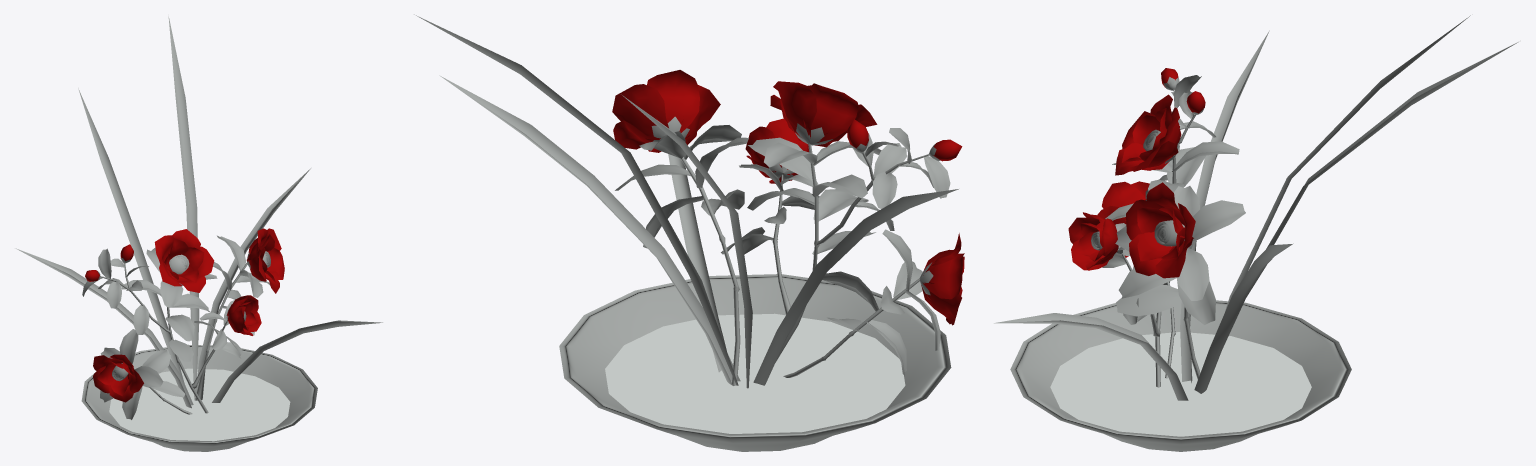
3 renders of one model, left to right at view 1: azimuth 30°, elevation 25°; view 2: azimuth 150°, elevation 25°; view 3: azimuth 270°, elevation 25°, orthographic. The views are drawn at different scales.
Parts seen in each view (by area): view 1: G:\FFXIV-MapTools\exports\m5t1\bgcommon\world\itm\049\bgpart (×2); view 2: G:\FFXIV-MapTools\exports\m5t1\bgcommon\world\itm\049\bgpart (×2); view 3: G:\FFXIV-MapTools\exports\m5t1\bgcommon\world\itm\049\bgpart (×2).
Boxes of the visible parts, x1,y1,x2,y2 form: G:\FFXIV-MapTools\exports\m5t1\bgcommon\world\itm\049\bgpart (×2): (15, 16, 382, 451); G:\FFXIV-MapTools\exports\m5t1\bgcommon\world\itm\049\bgpart (×2): (414, 14, 964, 451); G:\FFXIV-MapTools\exports\m5t1\bgcommon\world\itm\049\bgpart (×2): (994, 15, 1518, 451).
Size of the model in its own units: 0.8452 by 0.8273 by 0.8809.
